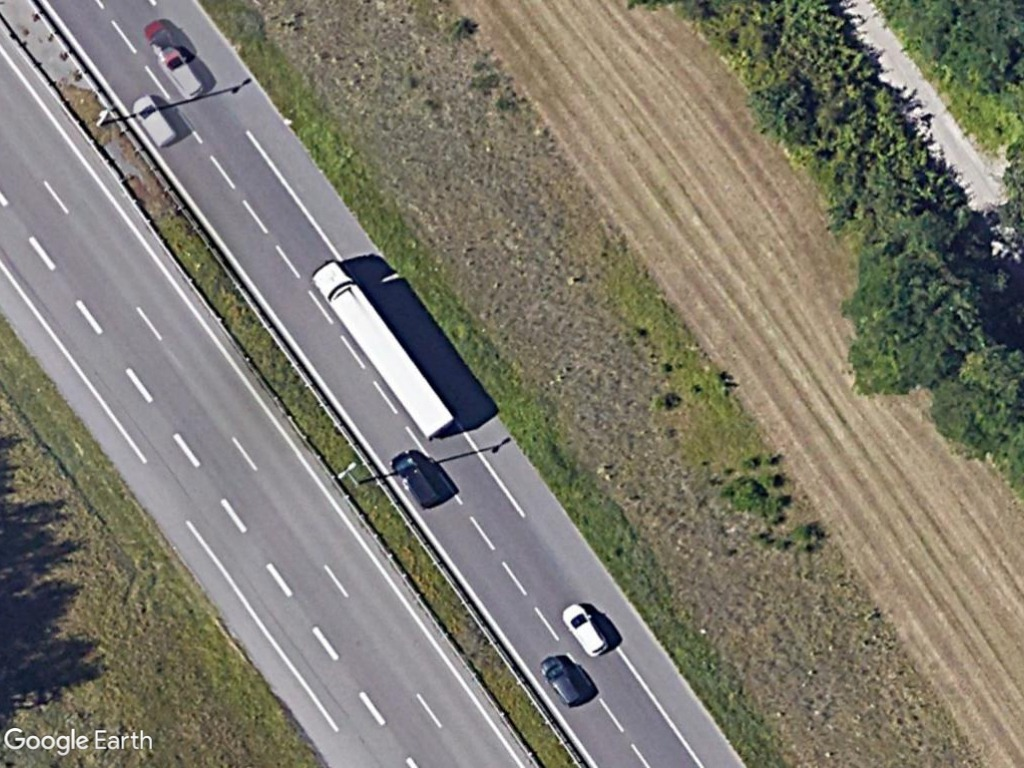car: (560, 601, 612, 661), (535, 655, 586, 711), (155, 45, 205, 102)
longvehicle: (307, 260, 454, 443)
van: (130, 91, 178, 150)
